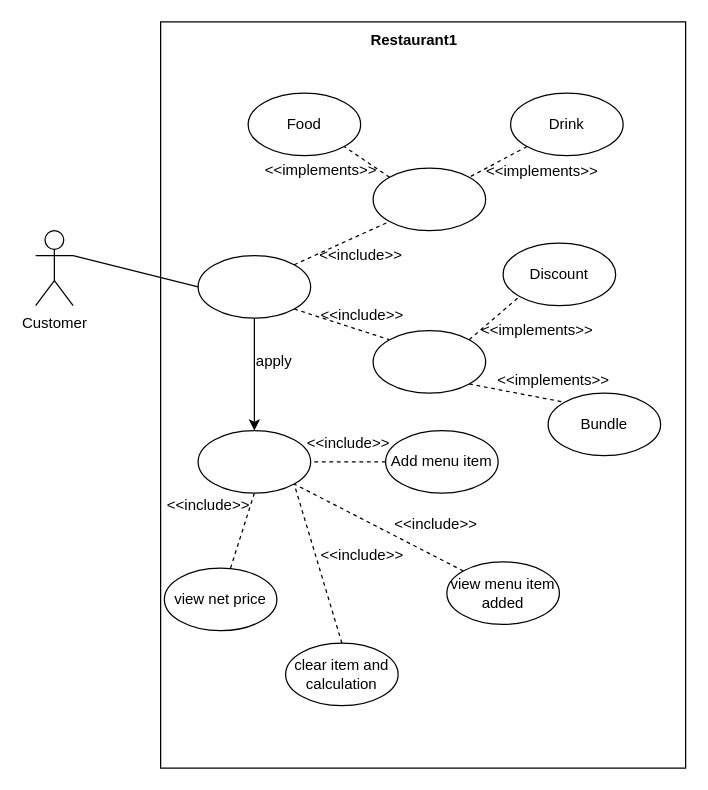
The diagram is 708 pixels wide and 790 high, and some of its shapes have lost their labels. Here are the shapes that lost their labels. From the top down, the centre of each, then its label:
point (429, 199): Menu
point (254, 286): Order
point (429, 361): Price
point (254, 461): Frame
